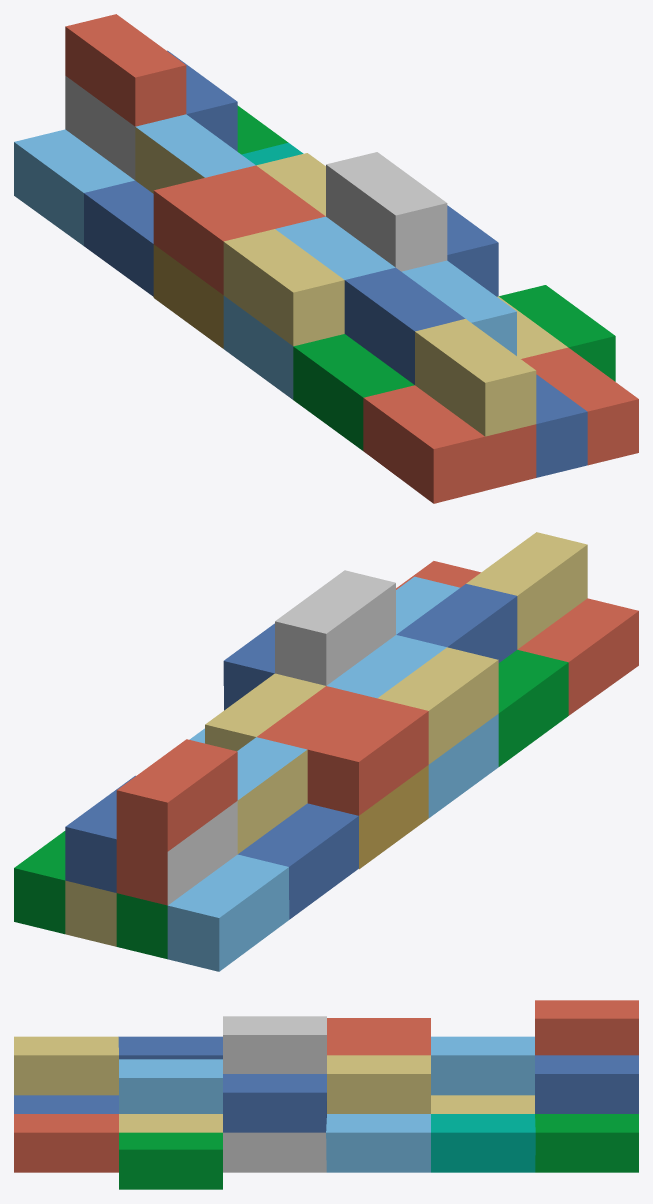
File: Container_Group_2.fbx
3 views of the same model, one above another, from view 1: azimuth 30°, elevation 25°; view 2: azimuth 150°, elevation 25°; view 3: azimuth 270°, elevation 25° (orthographic). The views are drawn at different scales.
Visible parts, largest first — view 1: Container_Group_2; view 2: Container_Group_2; view 3: Container_Group_2.
Part boxes in pixels (x1,y1,x2,y2): Container_Group_2: (14, 14, 638, 503); Container_Group_2: (14, 532, 638, 971); Container_Group_2: (14, 1000, 638, 1189).
Bounding box in the file's own units: 3.05 × 1.85 × 8.78.
